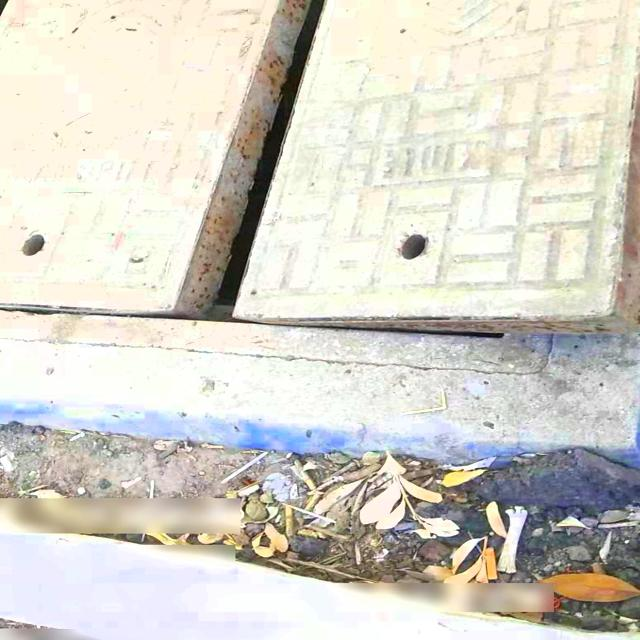uncovered: (0, 0, 640, 346)
